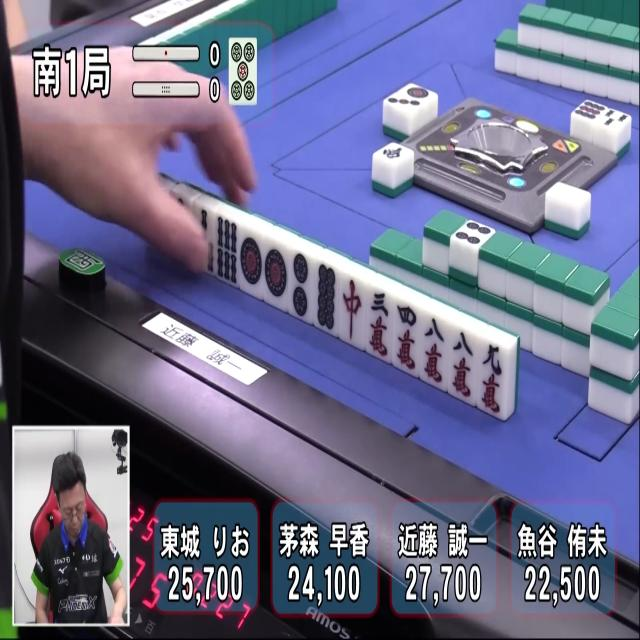1D: (262, 240, 292, 310), (239, 229, 266, 298), (404, 75, 431, 104)
2D: (285, 250, 314, 320)
3B: (602, 108, 628, 130)
3C: (364, 288, 394, 360)
3D: (386, 92, 421, 114)
4C: (390, 300, 422, 373)
4D: (455, 216, 490, 249)
5D: (228, 38, 256, 107)
6B: (213, 214, 242, 288)
8C: (447, 328, 482, 402), (416, 314, 451, 388)
8D: (314, 262, 344, 334)
9C: (476, 340, 512, 418)
9D: (574, 95, 606, 121)
RD: (337, 278, 366, 350)
SW: (380, 140, 406, 164)
